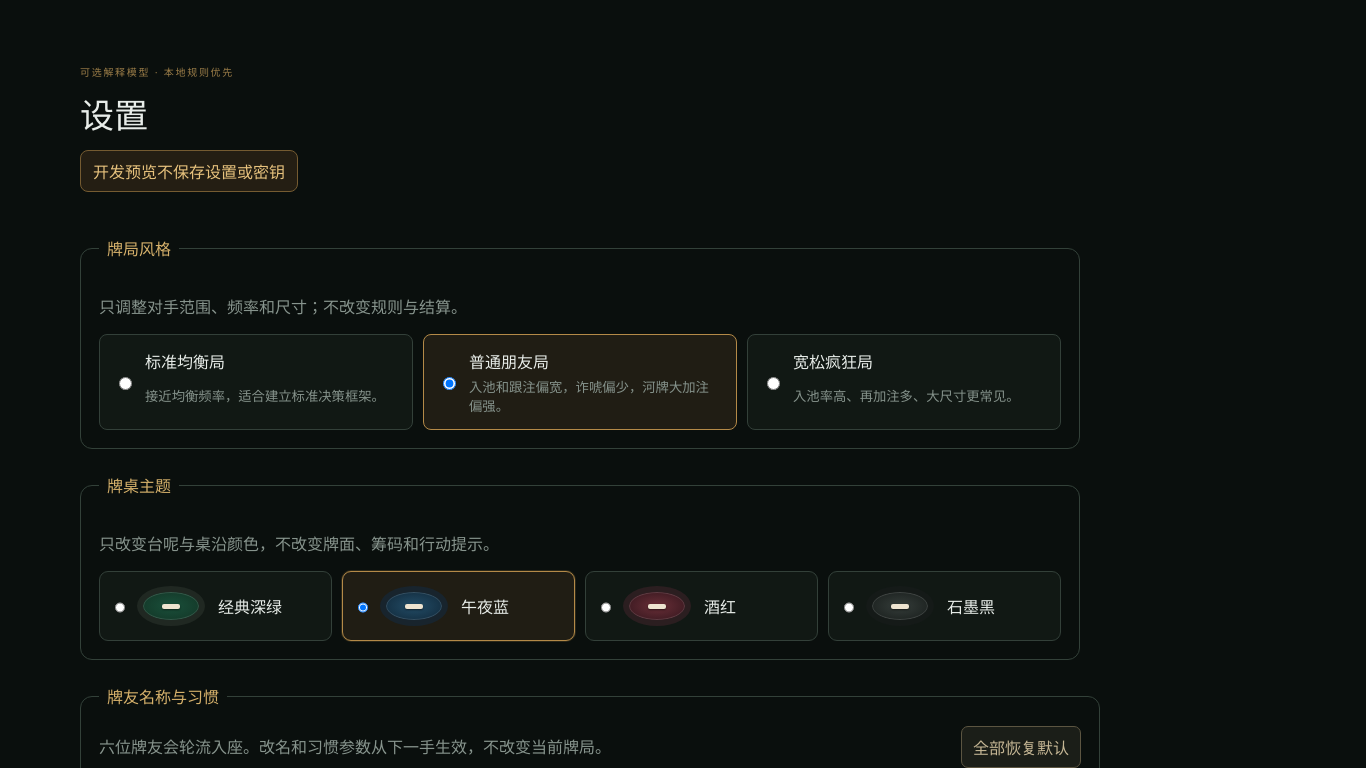
Scenario: SettingsPage › saves a table theme immediately without changing other gameplay settings
expect the radio button labelled "午夜蓝" is checked: met, box 358,601 -> 368,614
Step 1. Click the radio button labelled "酒红" → [606, 608], box 601,601 -> 611,614
(page scrolled)
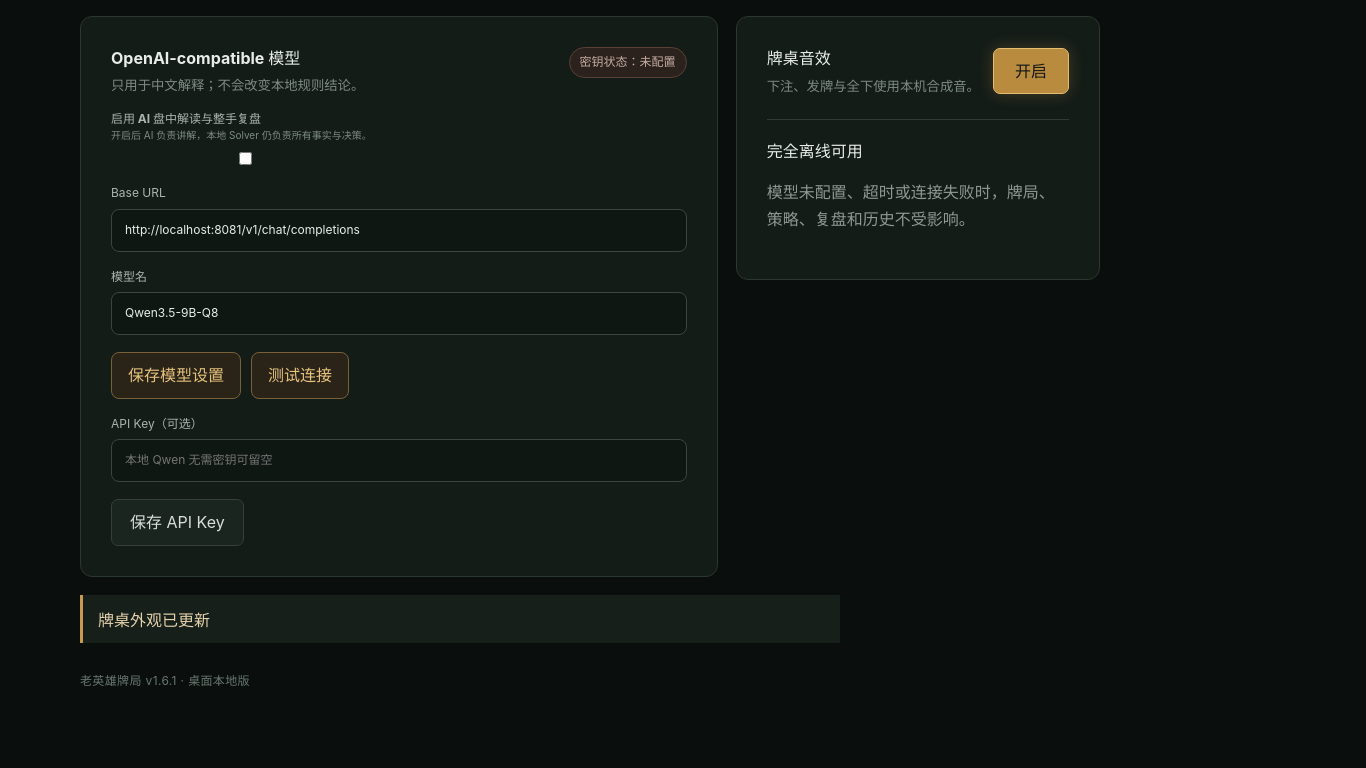
expect the text "牌桌外观已更新" is shown: met, box 80,594 -> 840,642
